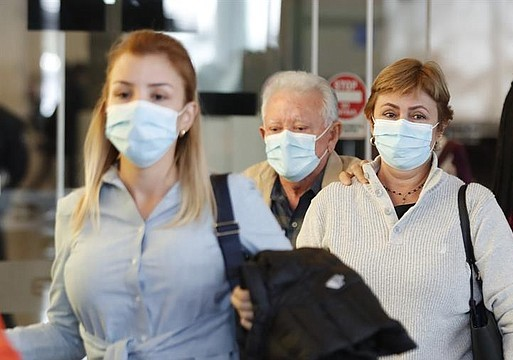with_mask: (89, 45, 202, 170), (254, 76, 345, 183), (363, 76, 454, 173)
